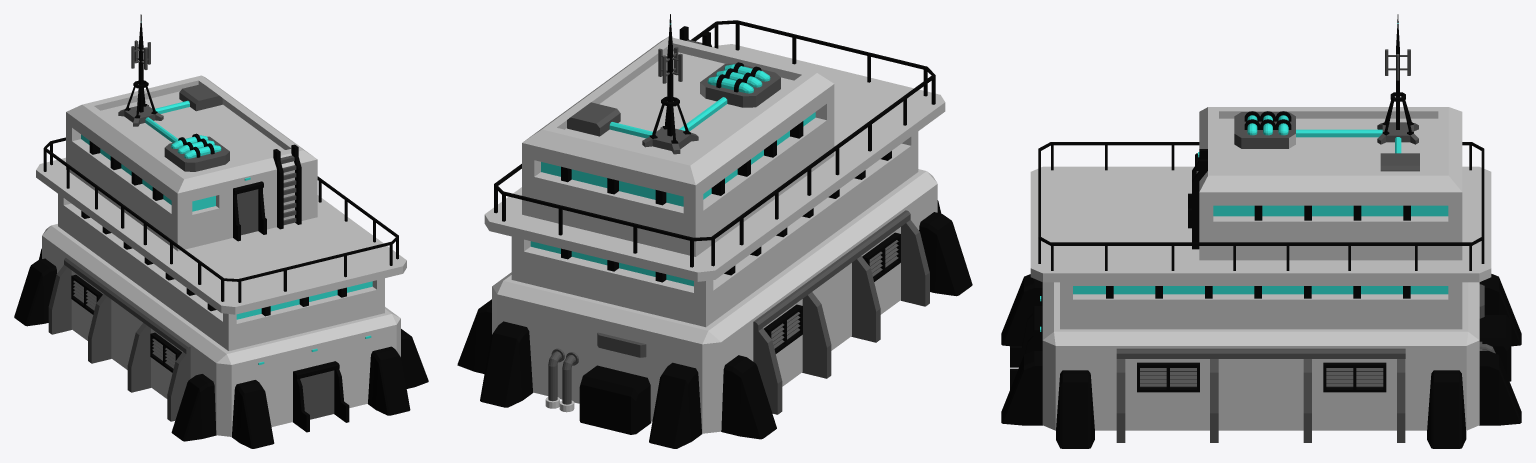
Rendered from OfficeBuilding.fbx.
3 views of the same model, side by side, from view 1: azimuth 30°, elevation 25°; view 2: azimuth 150°, elevation 25°; view 3: azimuth 270°, elevation 25° (orthographic). The views are drawn at different scales.
Visible parts, largest first — view 1: Base; view 2: Base; view 3: Base.
Part boxes in pixels (x1,y1,x2,y2): Base: [14, 14, 428, 448]; Base: [457, 14, 972, 448]; Base: [1001, 14, 1521, 448].
Size of the model in its own units: 525 by 393 by 338.
